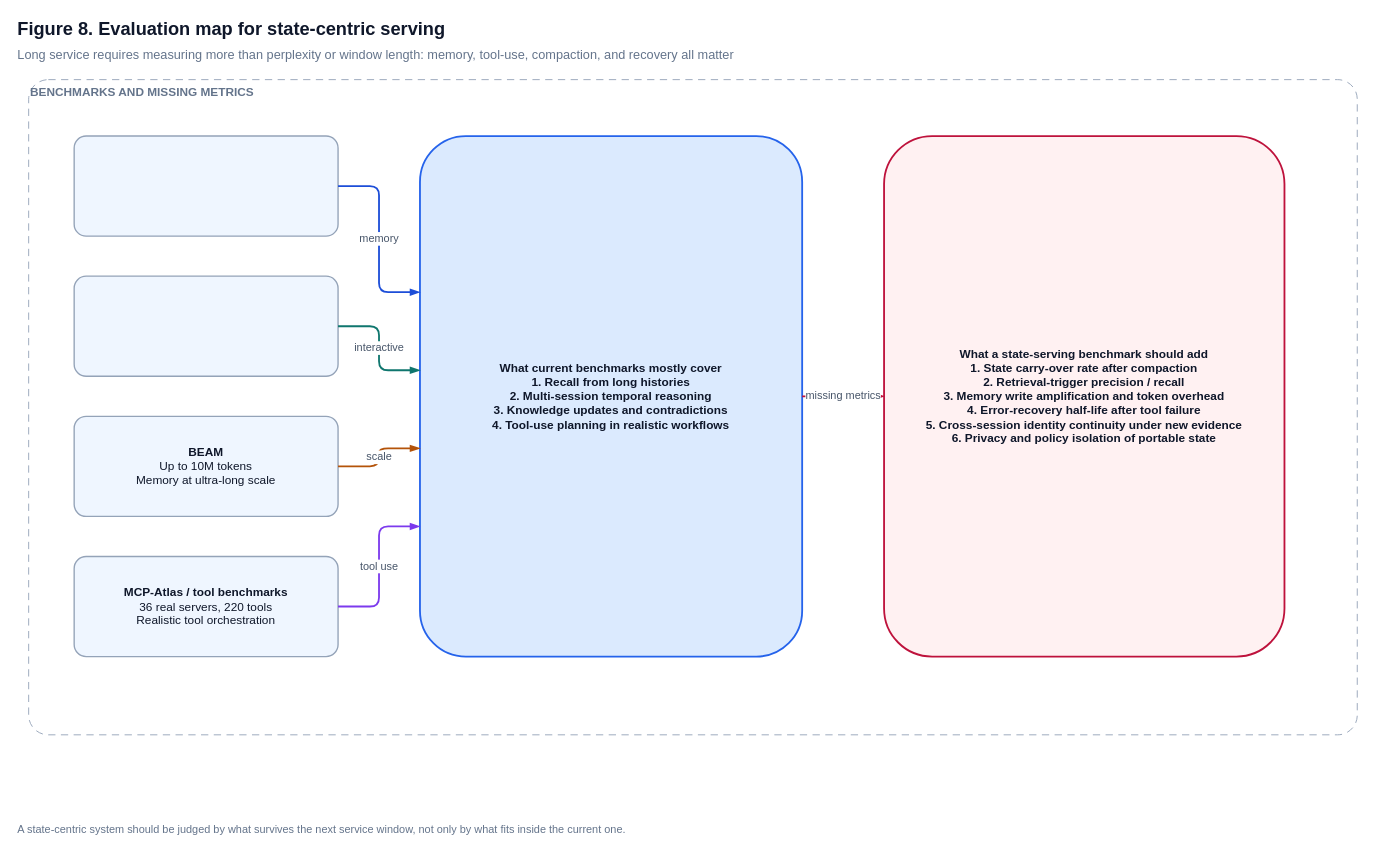
Some shapes in this 1373 by 852 pixel diagram are drawn without their labels. Here are the shapes that lost their labels. From the top down, the box of each, then its label:
(73, 135, 338, 236): LoCoMo 300-turn, multi-session benchmark Temporal + causal memory
(73, 275, 338, 377): LongMemEval 500 QA over sustained chats Extraction + reasoning + updates
